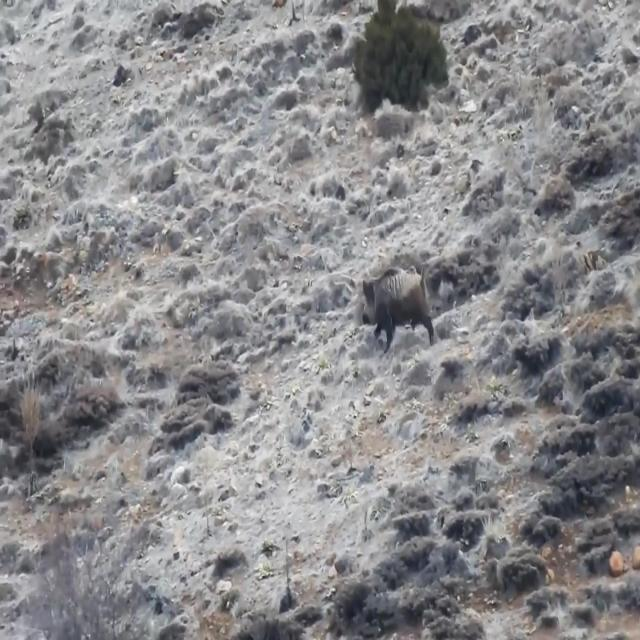pig: (354, 238, 451, 358)
